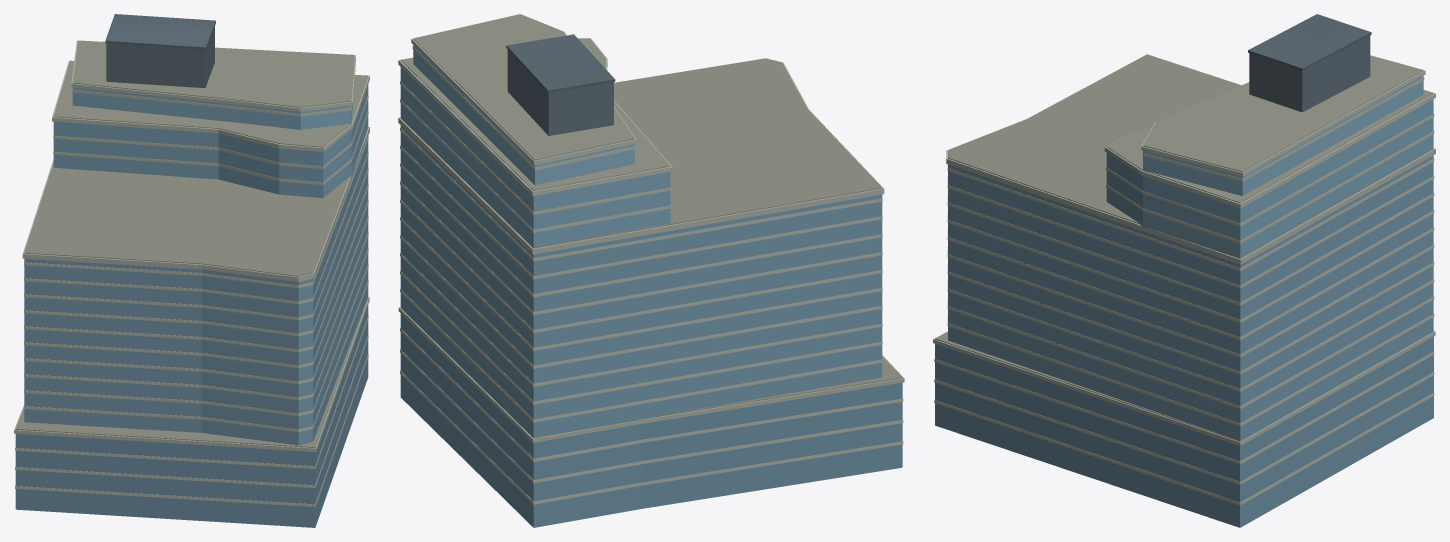
Rendered from childrens-hospital-of-richmond-at-vcu.glb.
The picture shows the model from 3 angles, left to right: view 1: azimuth 30°, elevation 25°; view 2: azimuth 150°, elevation 25°; view 3: azimuth 270°, elevation 25°; orthographic projection. The views are drawn at different scales.
Visible parts, largest first — view 1: front; view 2: front; view 3: front.
Part boxes in pixels (bbox=[...]): front: bbox=[14, 14, 369, 527]; front: bbox=[398, 14, 904, 527]; front: bbox=[933, 14, 1435, 527].
Size of the model in its own units: 111 by 96 by 111.
